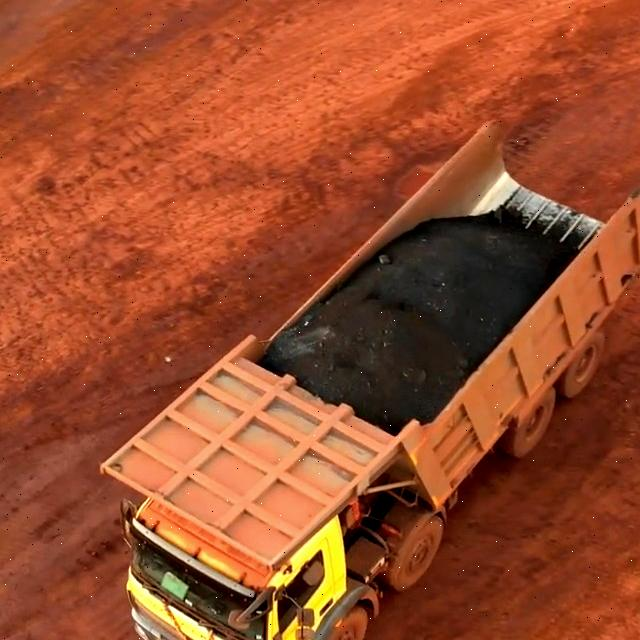Dumper truck: (130, 434, 404, 640)
